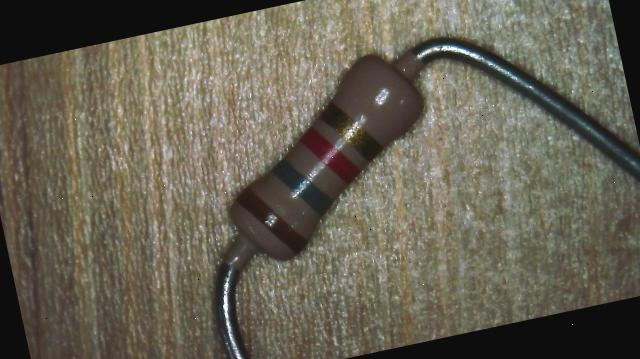brown: (236, 178, 309, 262)
gold: (320, 93, 382, 168)
grey: (270, 150, 336, 225)
red: (298, 118, 362, 192)
resistor: (164, 12, 467, 308)
